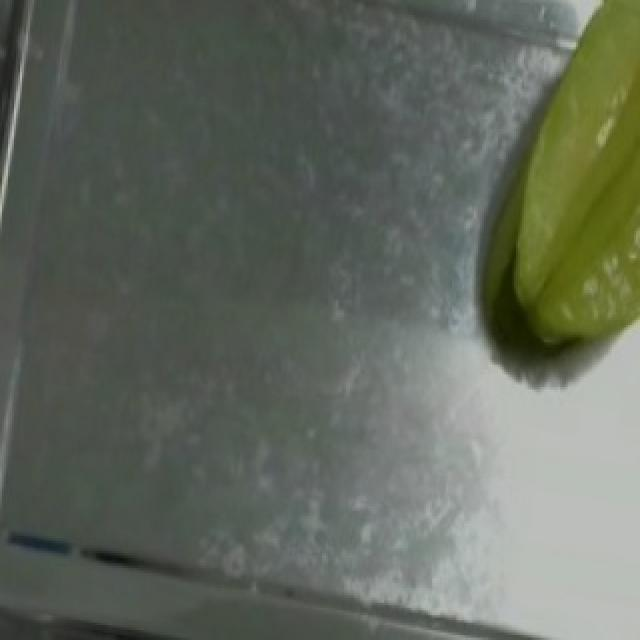fruit: (480, 2, 640, 370)
